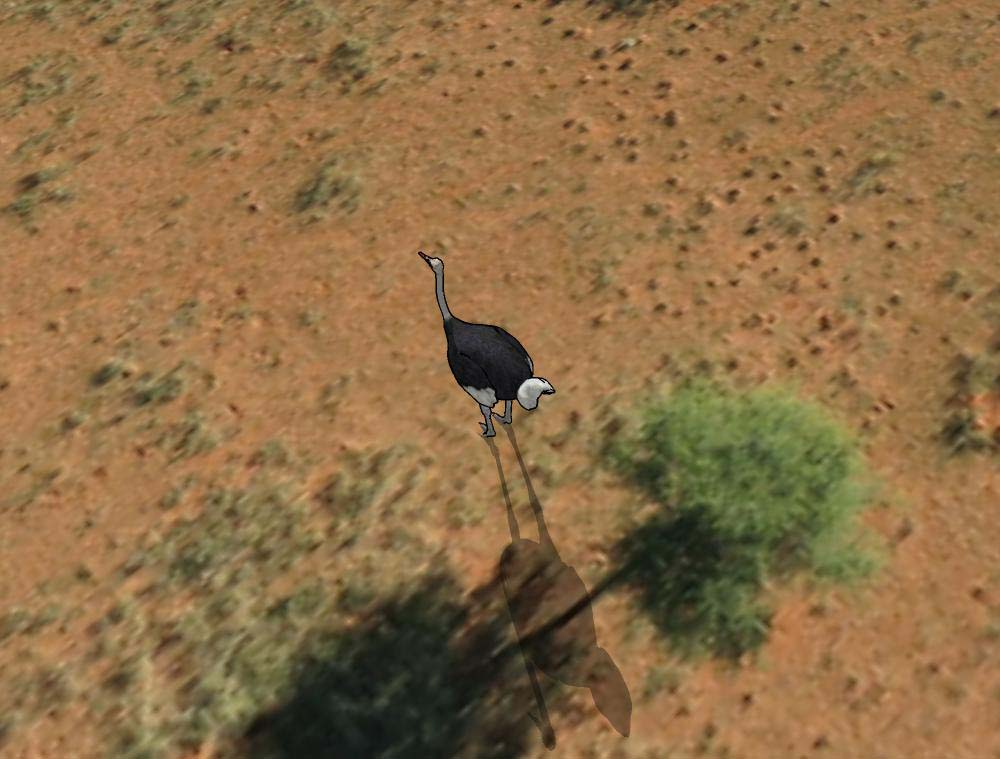springbok: (416, 247, 556, 443)
